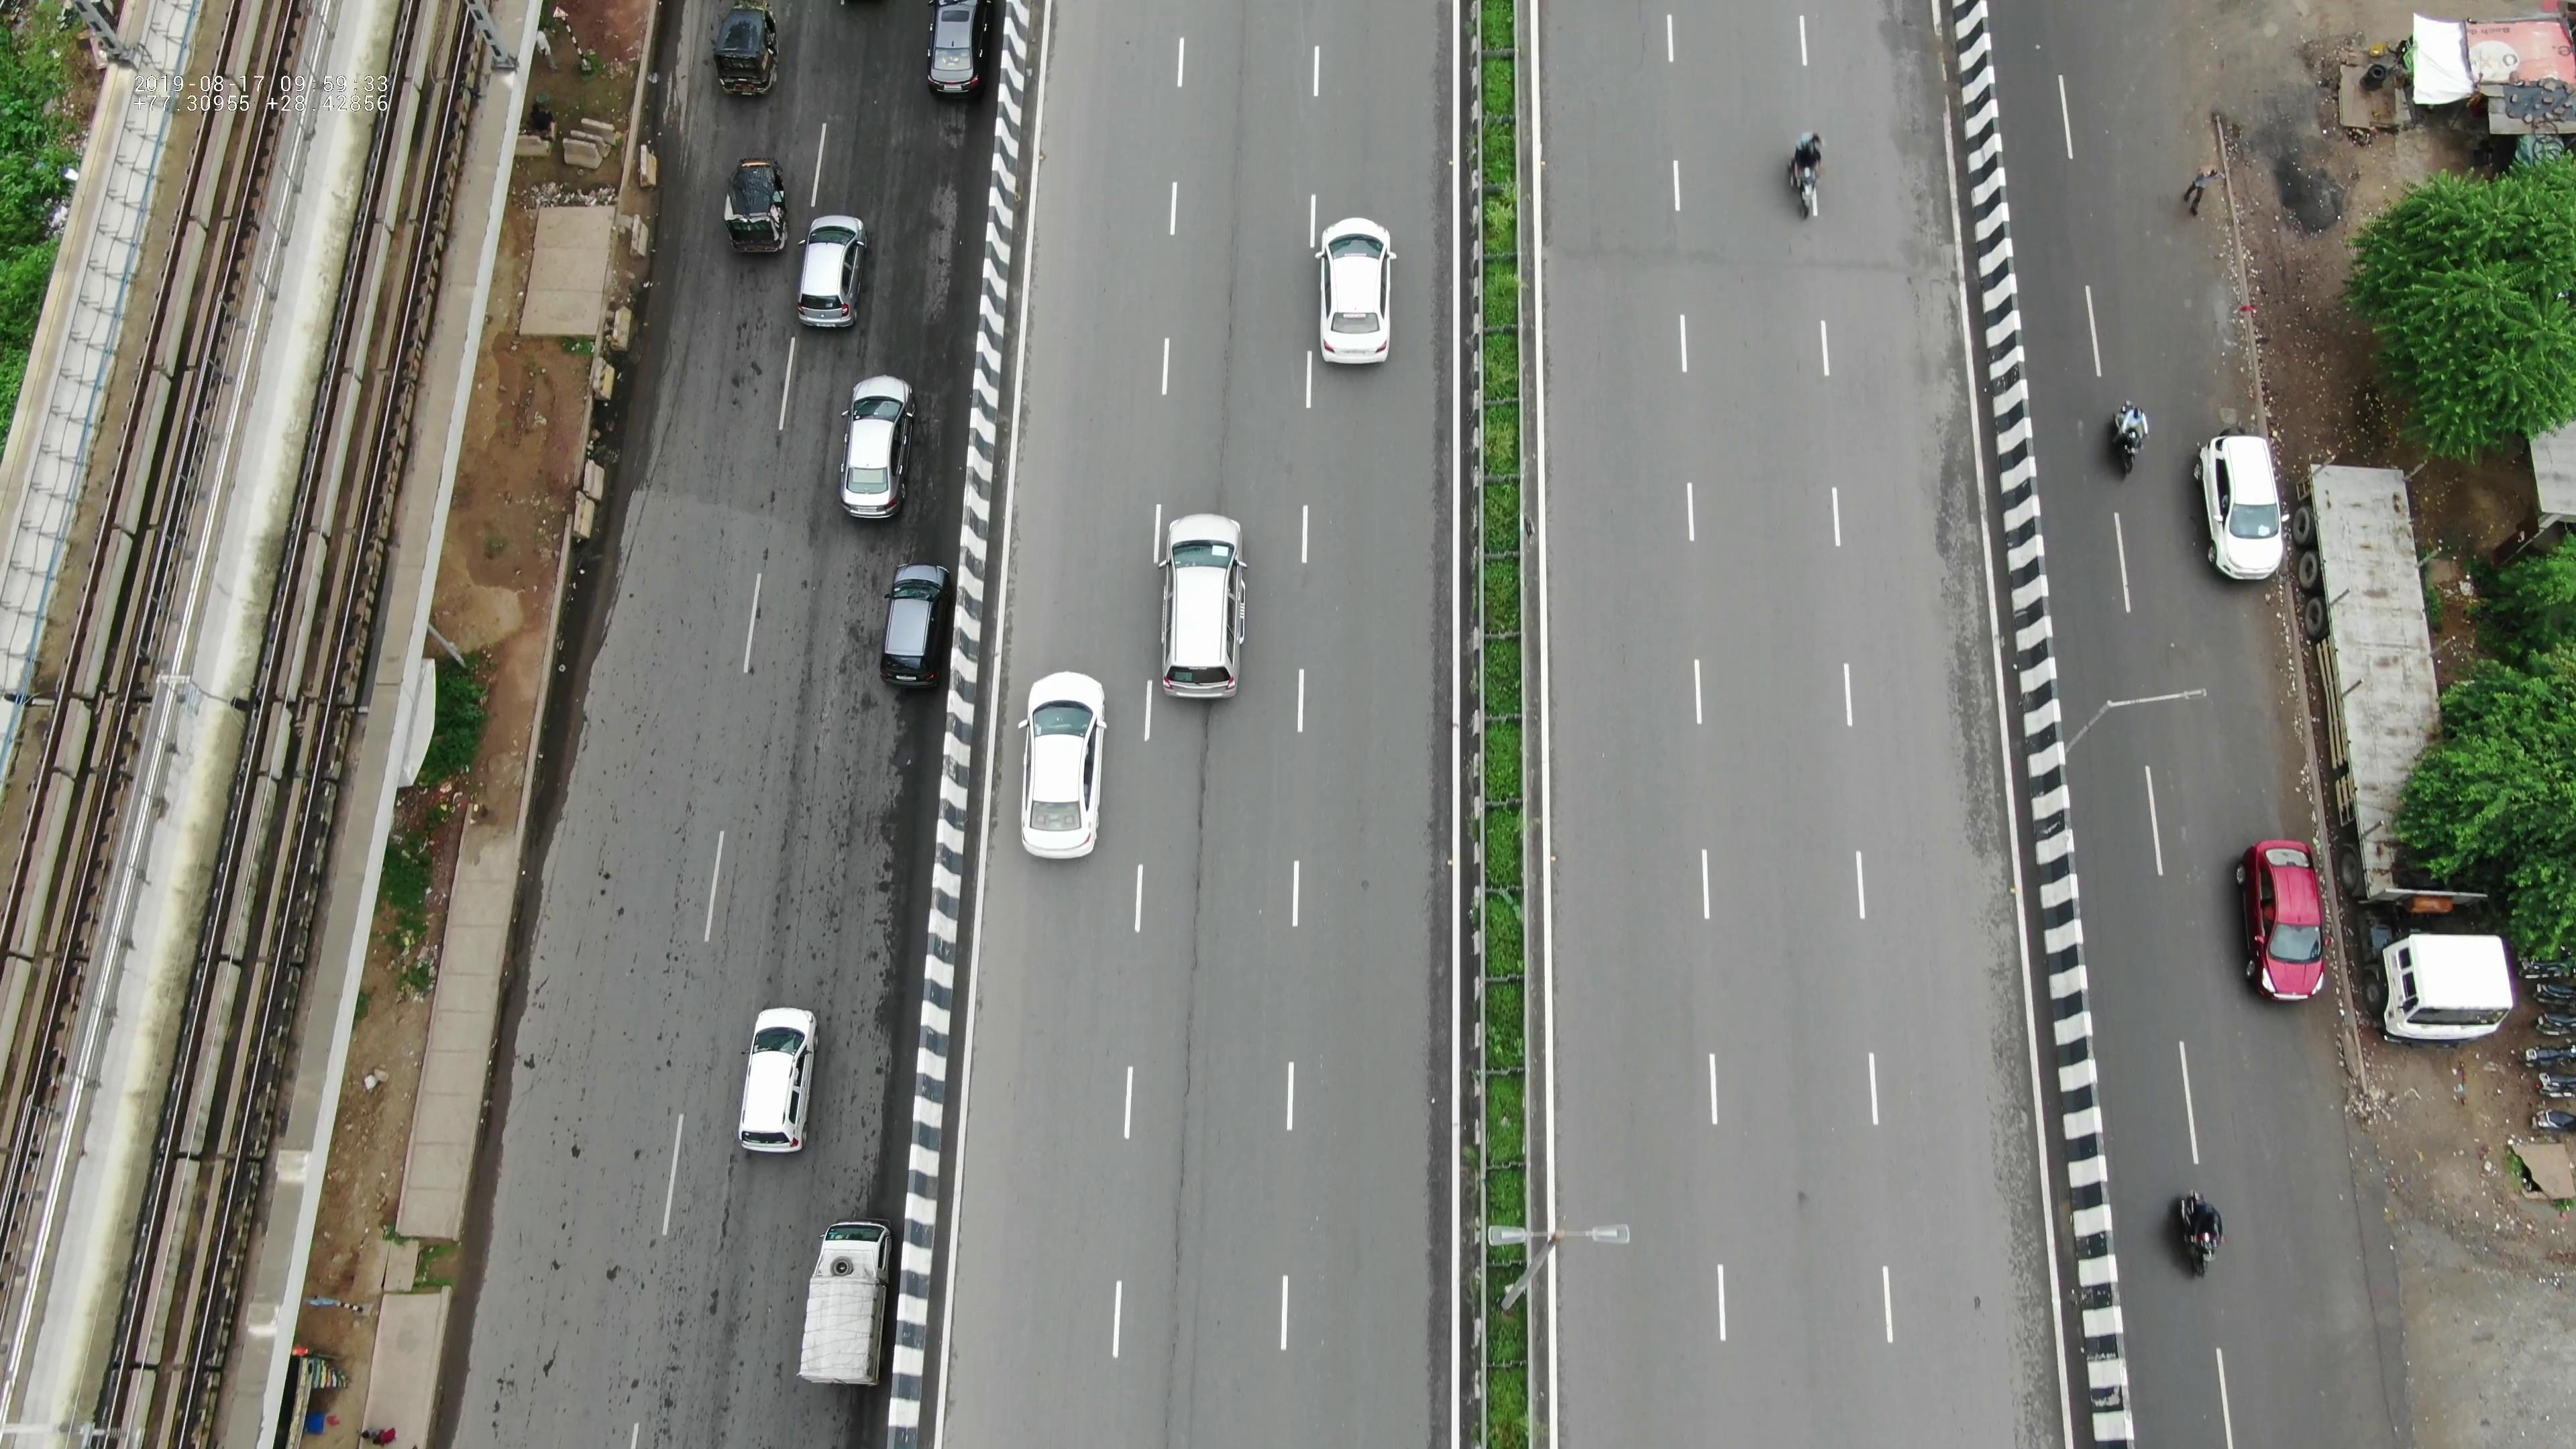Ravelling: (1164, 731, 1217, 1162)
